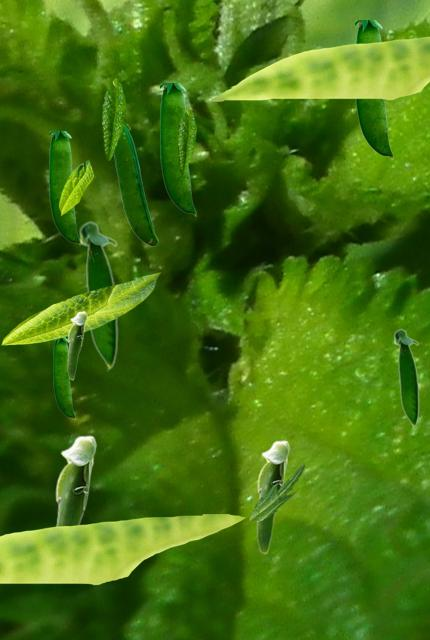pea: (78, 220, 117, 371), (113, 122, 157, 245), (355, 20, 392, 158), (160, 83, 195, 215), (54, 435, 96, 525), (256, 440, 289, 553), (49, 131, 79, 244), (393, 328, 418, 428), (53, 338, 74, 418), (67, 311, 86, 379)
